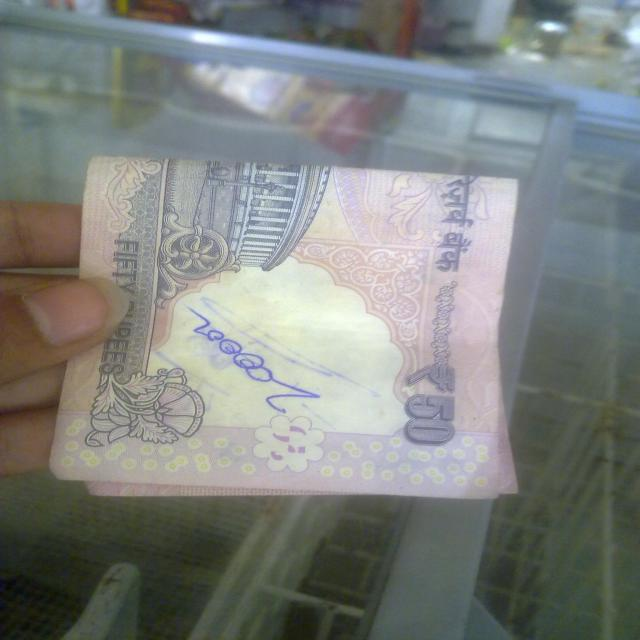50rs: (63, 152, 522, 504)
